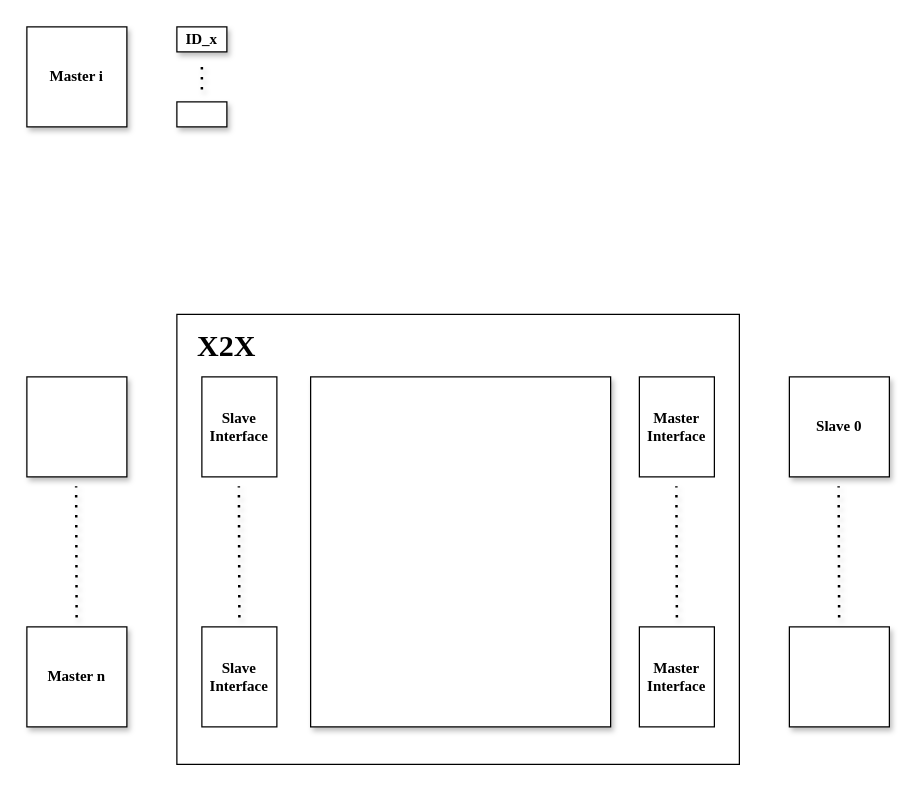
This 919x786 diagram has some shape labels left out. The centre of each missing label's shape, as x and y in pixels:
"ID_y" belongs at (202,116).
"Interconnect" belongs at (461,553).
"Master 0" belongs at (77,428).
"Slave m" belongs at (840,678).
